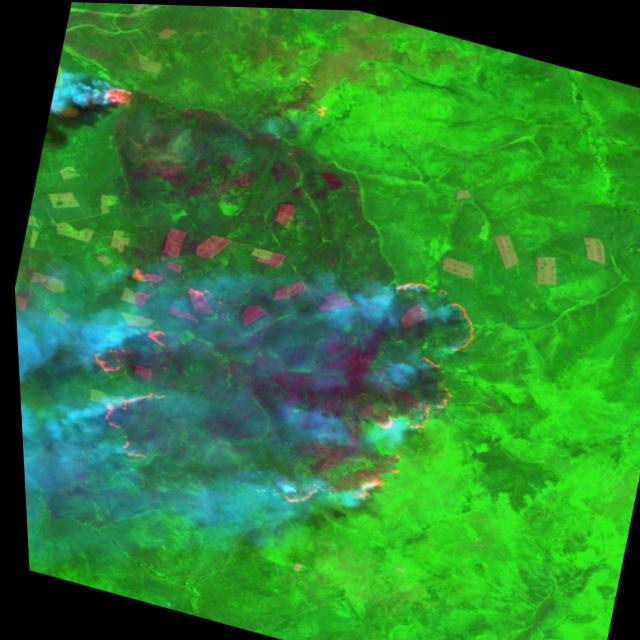fire: (249, 243, 502, 551), (46, 295, 190, 470), (75, 67, 140, 123)
